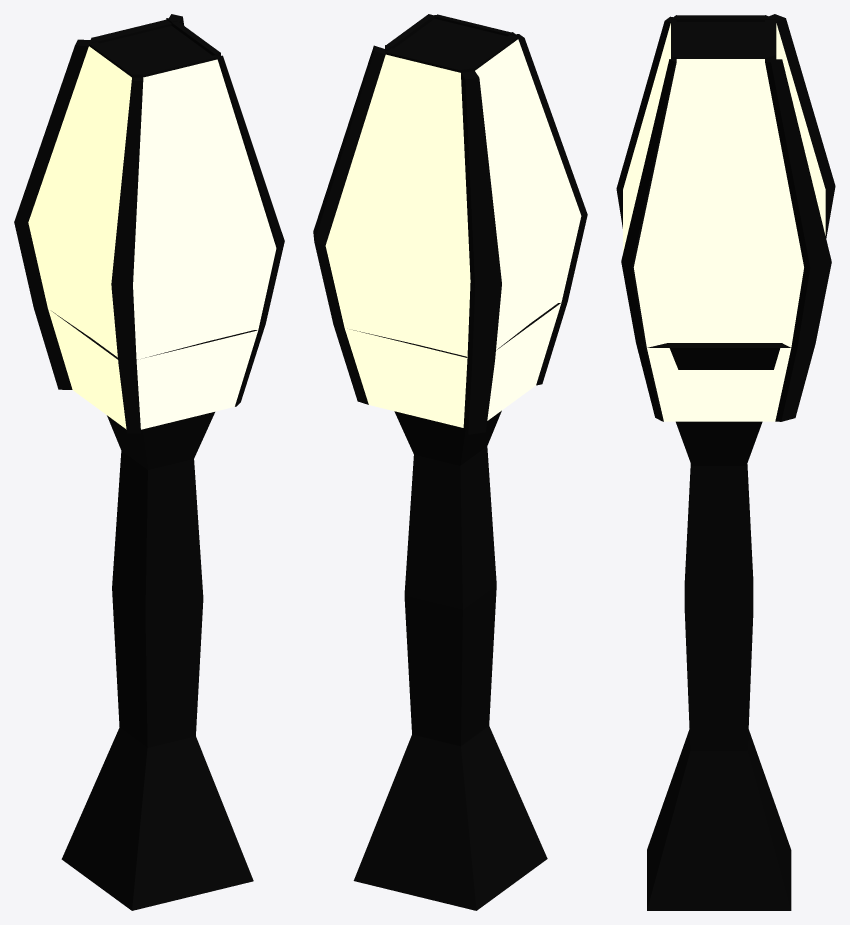
The model's file is lamp_wee.fbx.
3 views of the same model, side by side, from view 1: azimuth 30°, elevation 25°; view 2: azimuth 150°, elevation 25°; view 3: azimuth 270°, elevation 25° (orthographic). The views are drawn at different scales.
Parts seen in each view (by area): view 1: lamp.004; view 2: lamp.004; view 3: lamp.004.
Part boxes in pixels (<box>): lamp.004: <box>14,14,284,910</box>; lamp.004: <box>313,14,587,910</box>; lamp.004: <box>616,14,835,910</box>.
Size of the model in its own units: 4.06 by 16.92 by 3.98.
